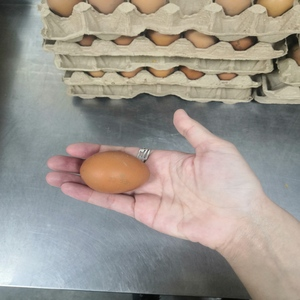brown egg: (79, 150, 151, 194)
